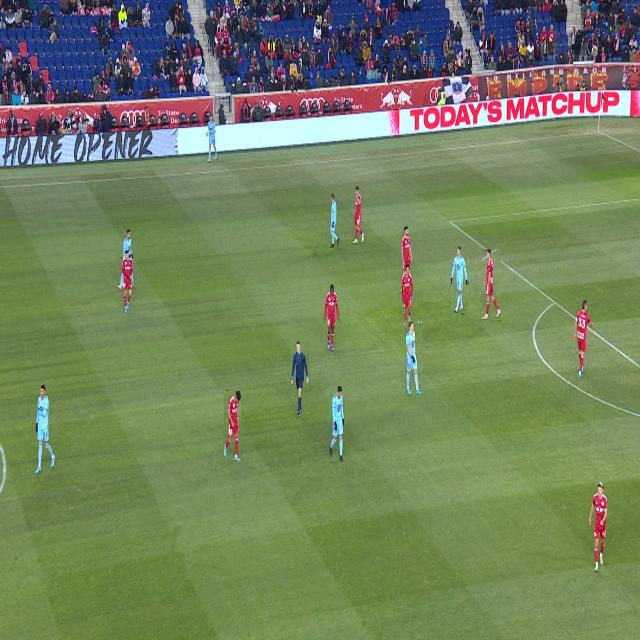player: (35, 385, 56, 474), (589, 481, 608, 573), (573, 300, 594, 378), (482, 249, 501, 320), (329, 386, 345, 462), (224, 391, 241, 461), (406, 321, 422, 395), (451, 247, 468, 313), (325, 285, 339, 351), (401, 265, 413, 326), (122, 249, 133, 313), (352, 186, 364, 243), (329, 193, 340, 248), (402, 227, 412, 275), (123, 229, 131, 260), (117, 268, 124, 290), (131, 273, 134, 287)
referee: (291, 341, 309, 418)
